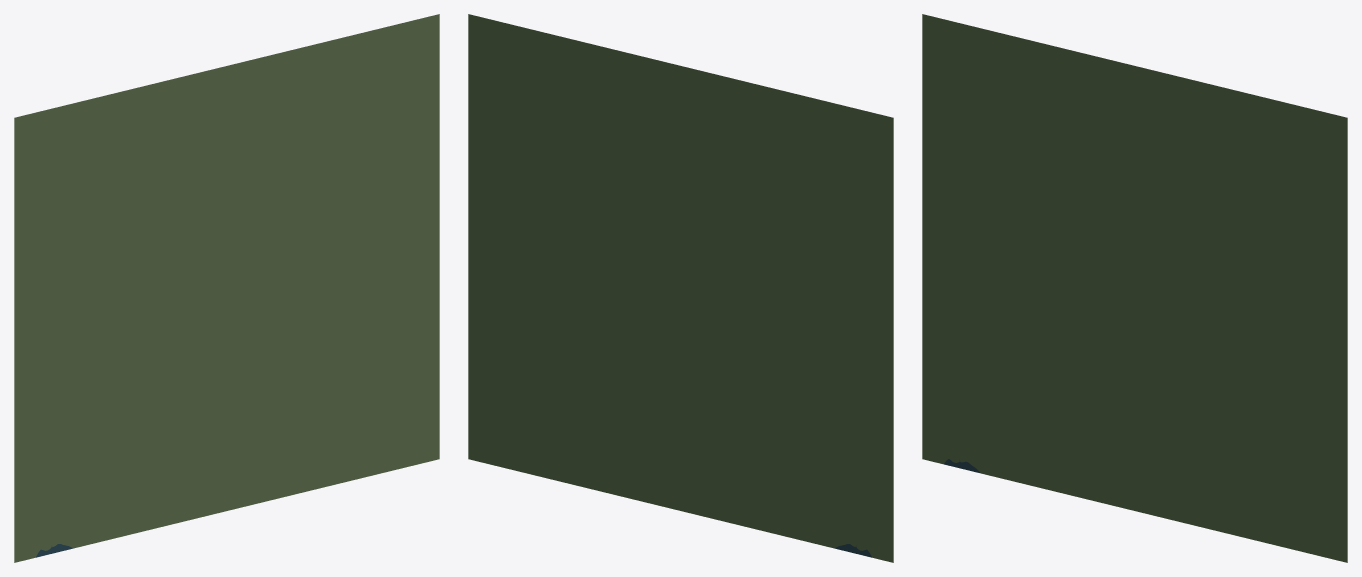
File: shape_112_Coast_12.glb
3 views of the same model, side by side, from view 1: azimuth 30°, elevation 25°; view 2: azimuth 150°, elevation 25°; view 3: azimuth 330°, elevation 25° (orthographic).
Size of the model in its own units: 4096 by 4096 by 0.
